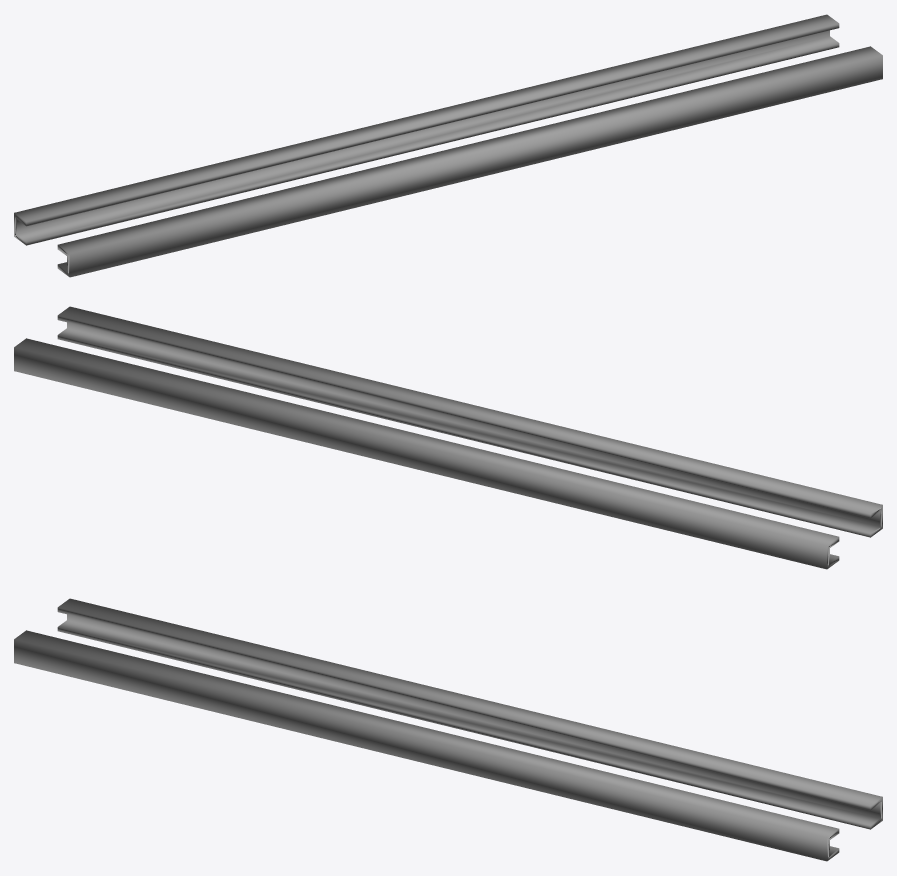
The model's file is cargd.gltf.
3 views of the same model, one above another, from view 1: azimuth 30°, elevation 25°; view 2: azimuth 150°, elevation 25°; view 3: azimuth 330°, elevation 25° (orthographic).
Parts seen in each view (by area): view 1: Box1741, Box1740; view 2: Box1740, Box1741; view 3: Box1741, Box1740.
Boxes of the visible parts, bbox=[...] form: Box1741: bbox=[14, 14, 839, 245]; Box1740: bbox=[57, 46, 882, 277]; Box1740: bbox=[57, 306, 882, 537]; Box1741: bbox=[14, 338, 839, 569]; Box1741: bbox=[57, 598, 882, 829]; Box1740: bbox=[14, 630, 839, 861].
Bounding box in the file's own units: 5371 × 150 × 639.
1 material, 1 textured.
